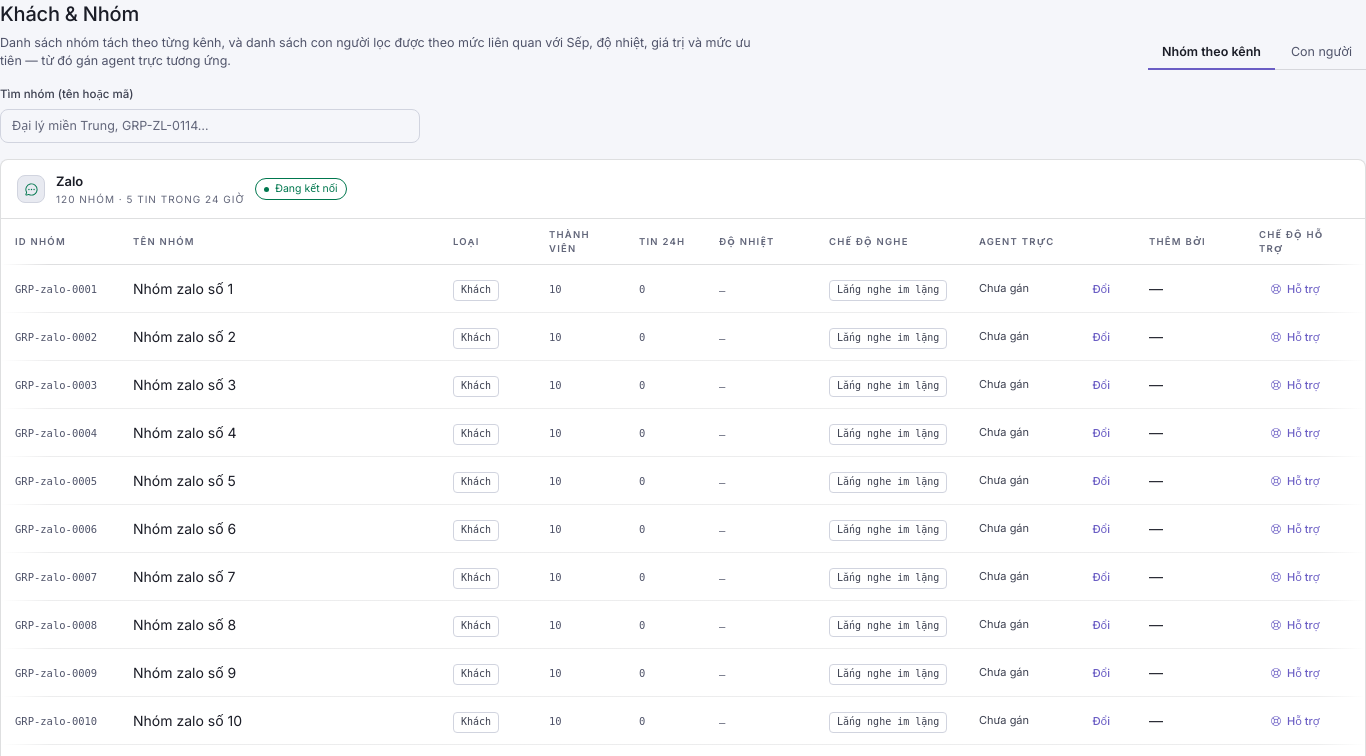
Test: Khách & Nhóm — phân trang bằng con trỏ của máy chủ › tìm nhóm theo tên gửi q cho máy chủ (nhóm thứ 100 vẫn tìm được)
The image size is (1366, 756).
Type "số 100" into the search field labelled "Tìm nhóm (tên hoặc mã)" at (210, 126), box x1=0 y1=109 x2=420 y2=143
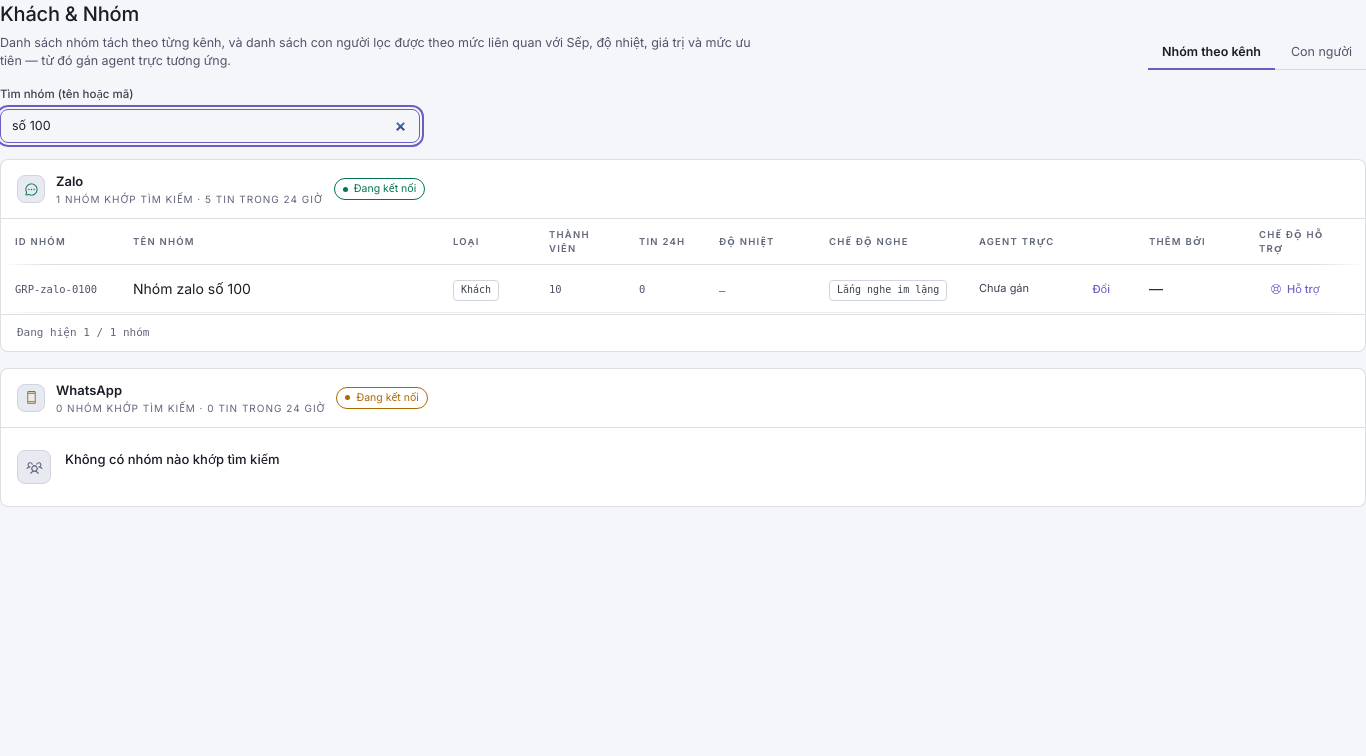
expect the text "Nhóm zalo số 100" is shown: met, box x1=119 y1=265 x2=439 y2=313
expect the text "Đang hiện 1 / 1 nhóm" is shown: met, box x1=17 y1=325 x2=150 y2=341
